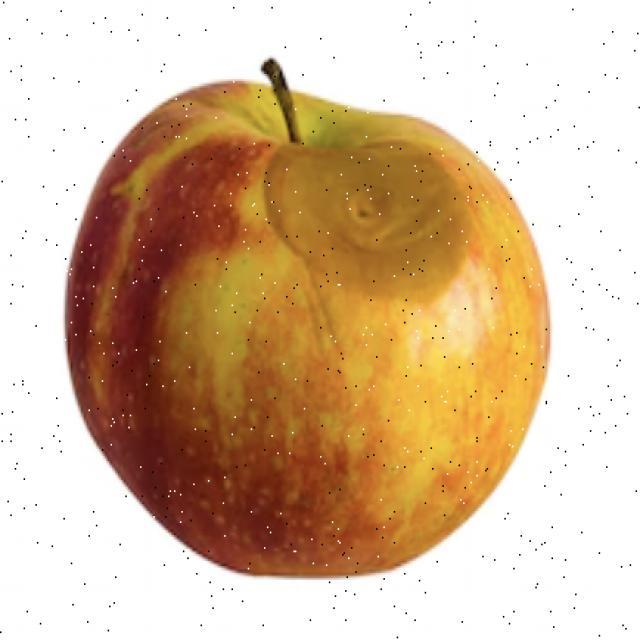Rotten: (76, 95, 532, 588)
